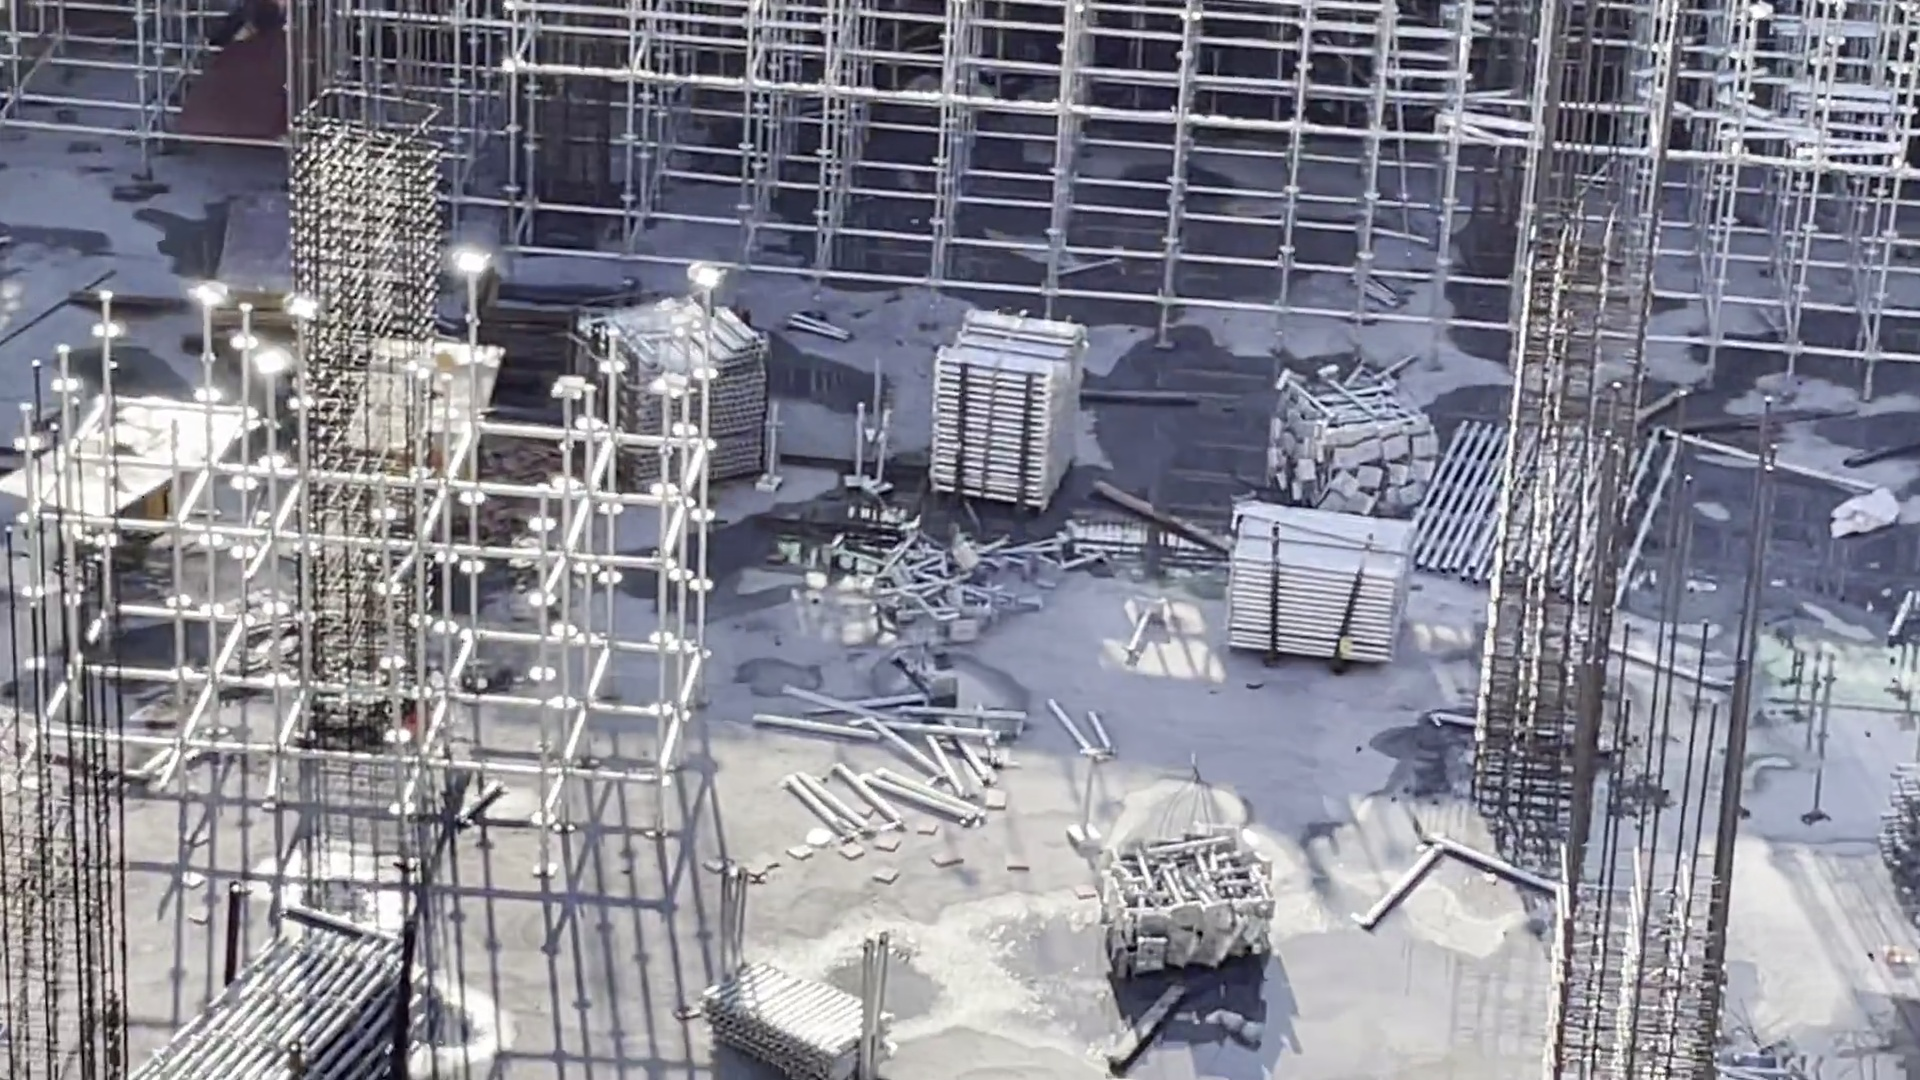cutter: (25, 386, 248, 580), (356, 326, 514, 539)
scaffold: (135, 919, 421, 1080), (588, 284, 767, 527), (1230, 480, 1422, 683), (1087, 827, 1300, 996), (928, 318, 1091, 481), (1280, 369, 1437, 531), (869, 514, 1039, 657), (702, 949, 856, 1080)
